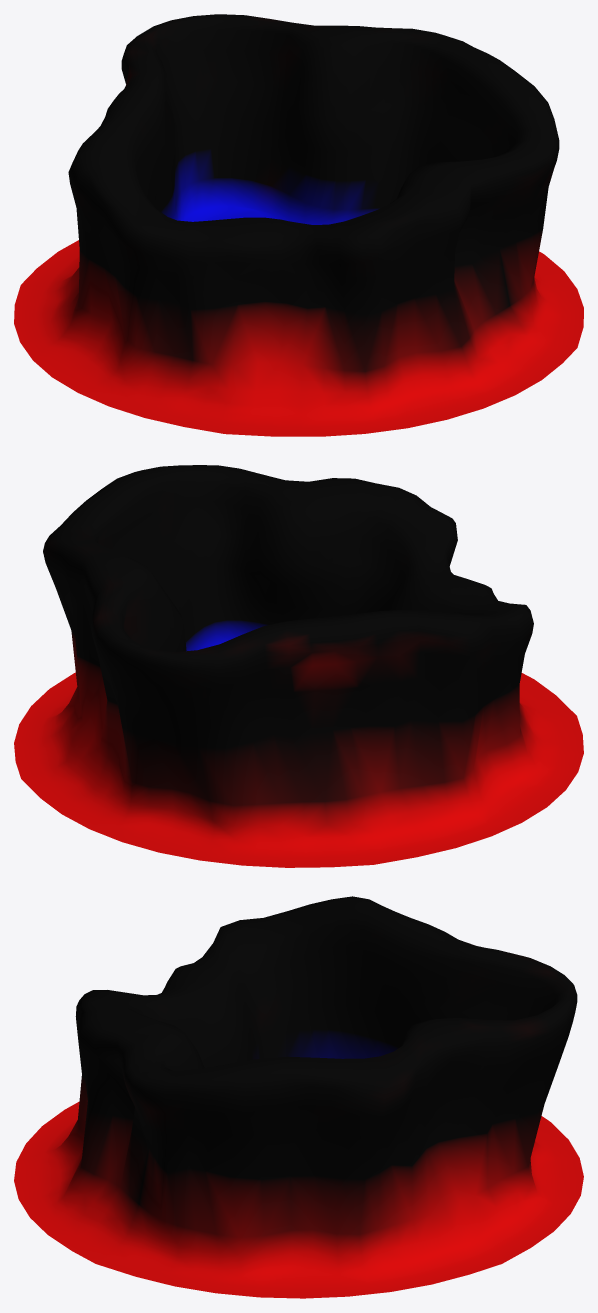
File: GroundObject07D.fbx
The picture shows the model from 3 angles, top to bottom: view 1: azimuth 30°, elevation 25°; view 2: azimuth 150°, elevation 25°; view 3: azimuth 270°, elevation 25°; orthographic projection.
Visible parts, largest first — view 1: GroundObject07D; view 2: GroundObject07D; view 3: GroundObject07D.
Part boxes in pixels (x1,y1,x2,y2): GroundObject07D: (14,14,583,436); GroundObject07D: (14,465,583,867); GroundObject07D: (14,896,583,1298).
Bounding box in the file's own units: 2.81 × 1.13 × 2.81.
